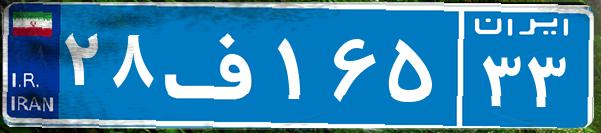1: (273, 28, 330, 110)
2: (57, 26, 110, 107)
3: (475, 38, 525, 113), (525, 38, 570, 115)
5: (385, 28, 445, 110)
6: (330, 28, 385, 110)
8: (110, 28, 158, 105)
ف: (158, 15, 273, 115)
